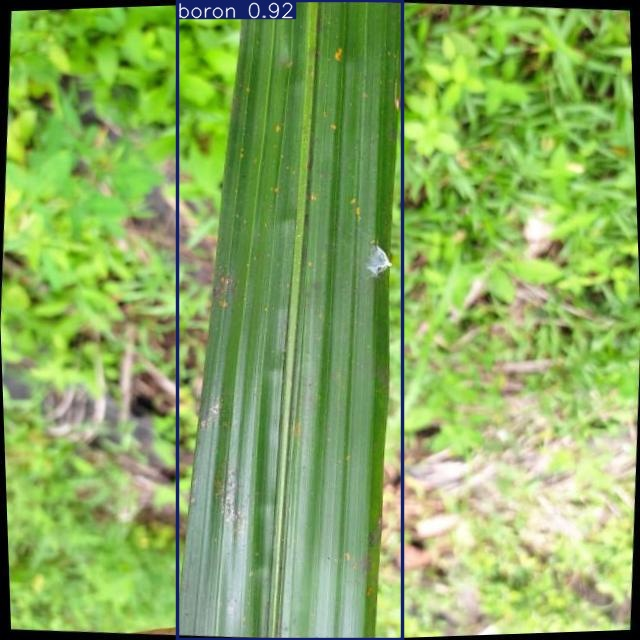nitrogen: (178, 1, 402, 639)
